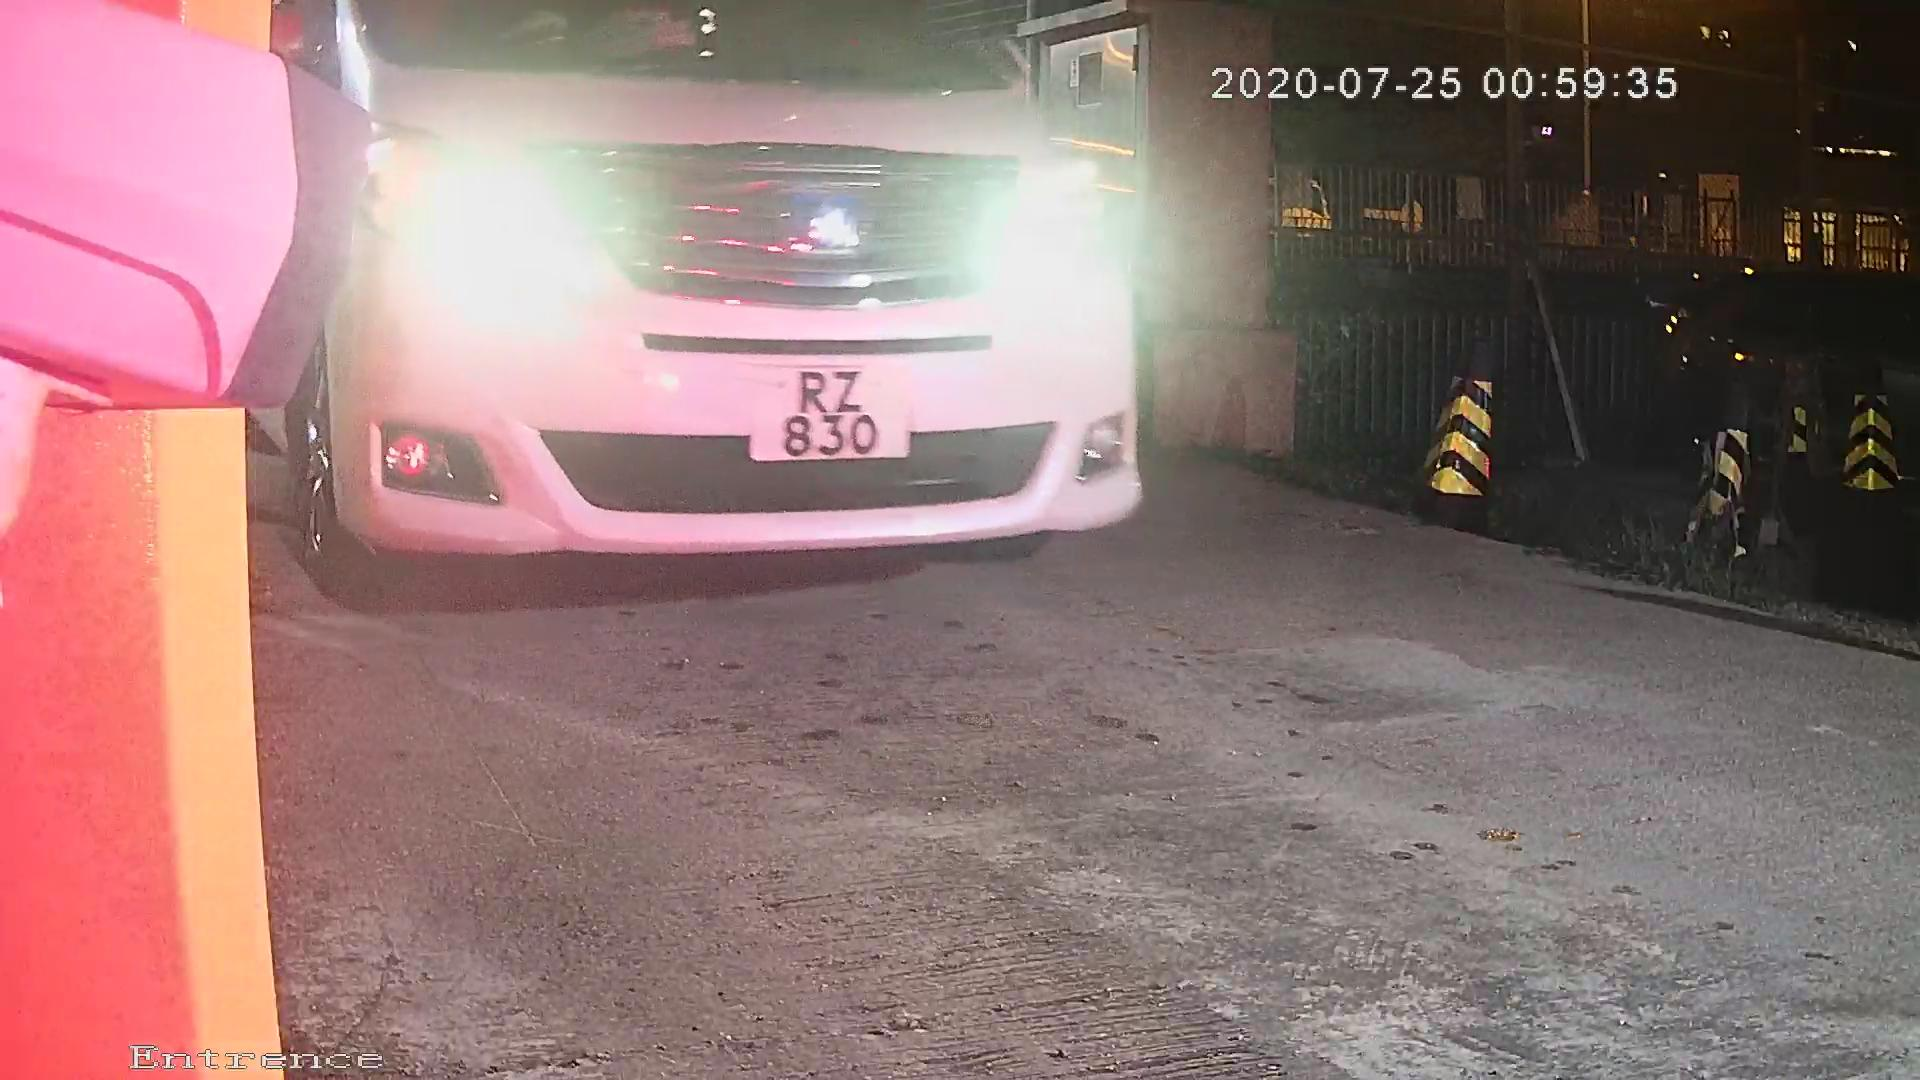Car: (69, 1, 1329, 676)
License Plate: (721, 352, 952, 478)
